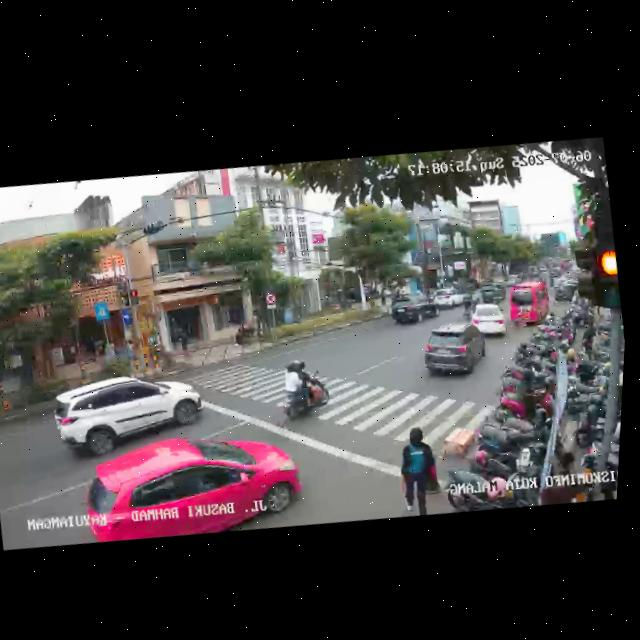car: (72, 412, 309, 559), (43, 353, 210, 471), (416, 318, 494, 387), (505, 275, 557, 332), (389, 291, 442, 332), (466, 299, 512, 343), (550, 274, 581, 305)
motorcycle: (271, 353, 336, 427)
person: (391, 422, 447, 518)
